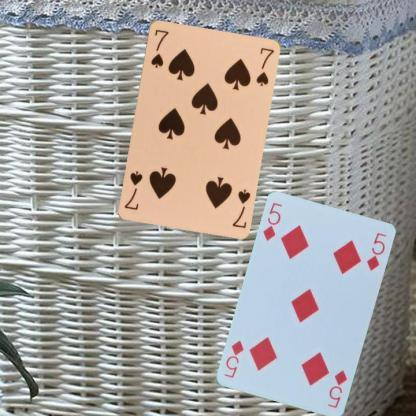5d: (324, 367, 348, 410), (260, 201, 284, 243)
7s: (148, 26, 170, 70), (230, 186, 252, 229)
